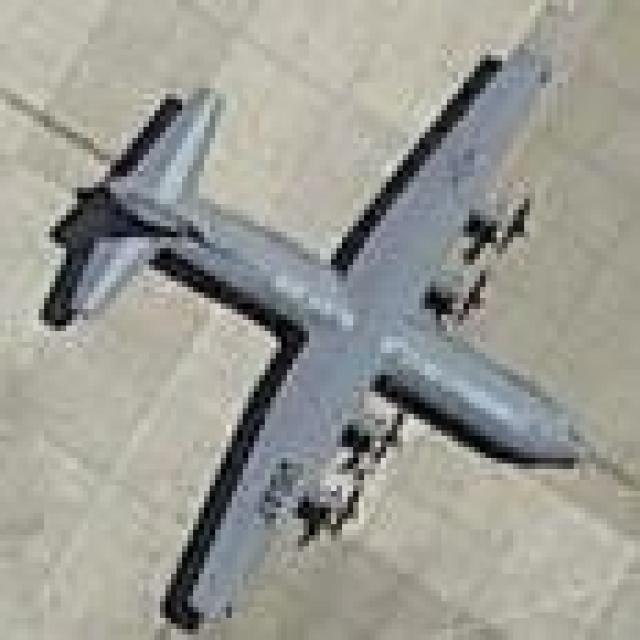C-130_TopDown: (37, 41, 594, 634)
